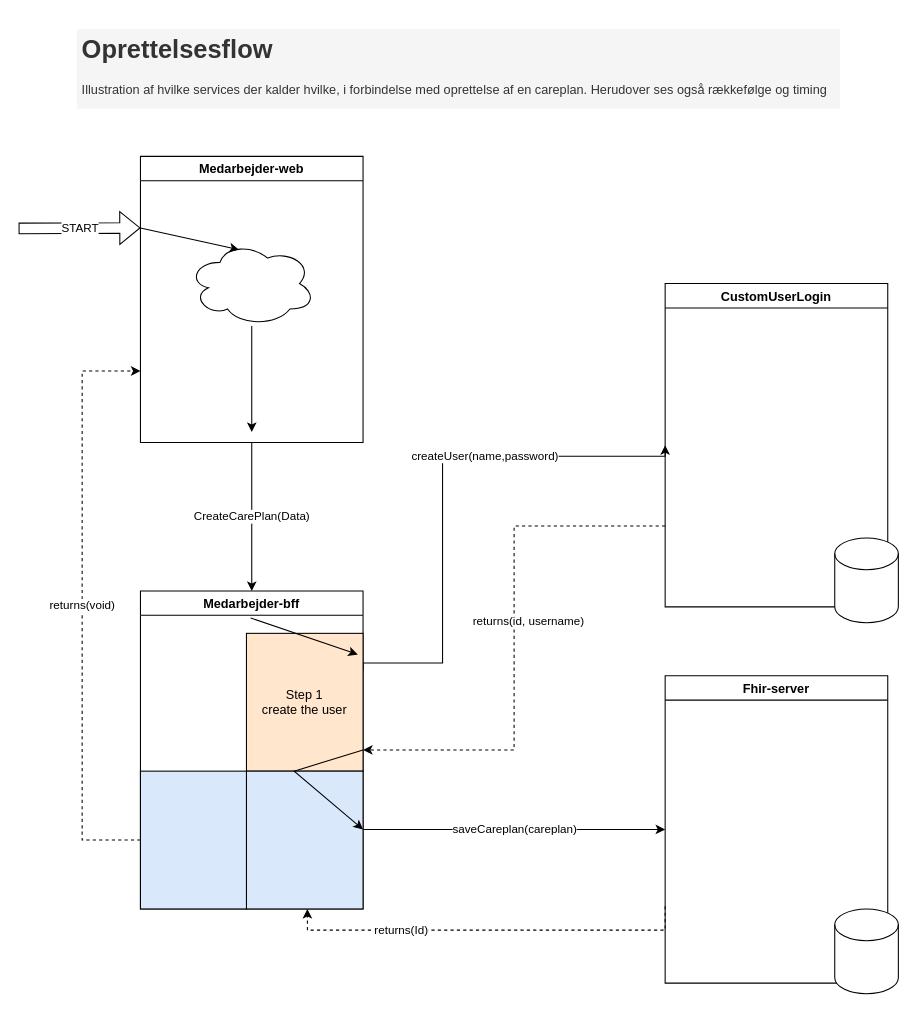
The diagram is 917 pixels wide and 1012 high, and some of its shapes have lost their labels. The shapes that lost their labels are listed below. From the top down, each one's centre as x and y in pixels, then its label:
At point (251, 283): "Data udfyldes".
At point (192, 839): "Step 3 return to caller".
At point (304, 839): "Step 2 save careplan in fhir".
